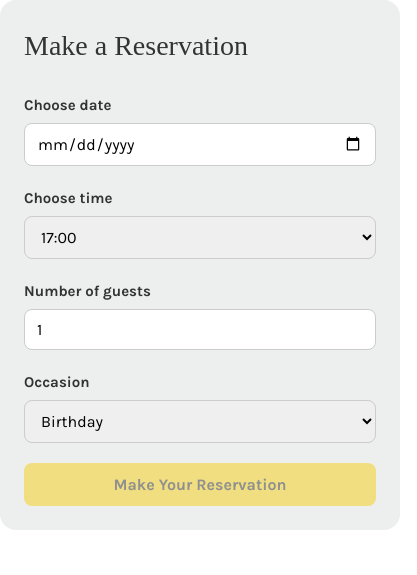
Scenario: date validation › shows error for a past date
Type "2020-01-01" into the date field named "reservation date" at [200, 144], box [24,123,376,166]
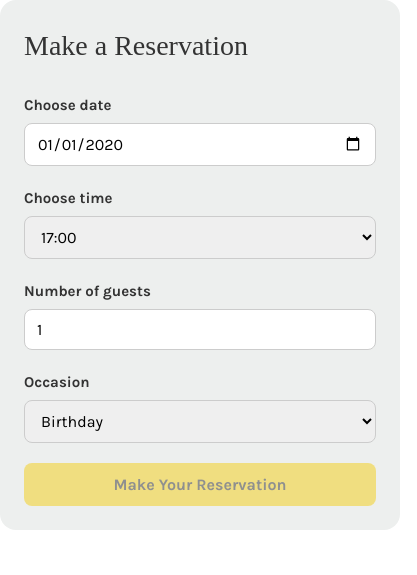
Submit the form named "reservation form"
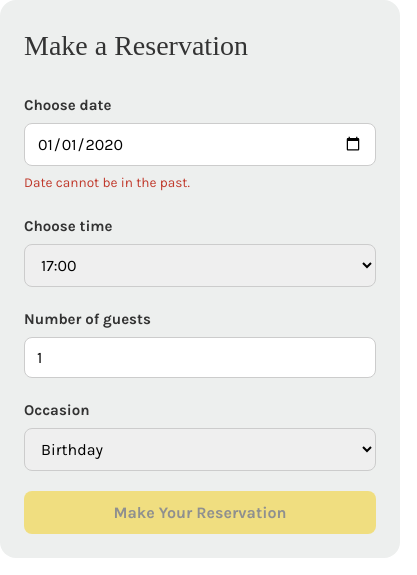
Check: the text "Date cannot be in the past." is shown, box [24,175,190,190]
